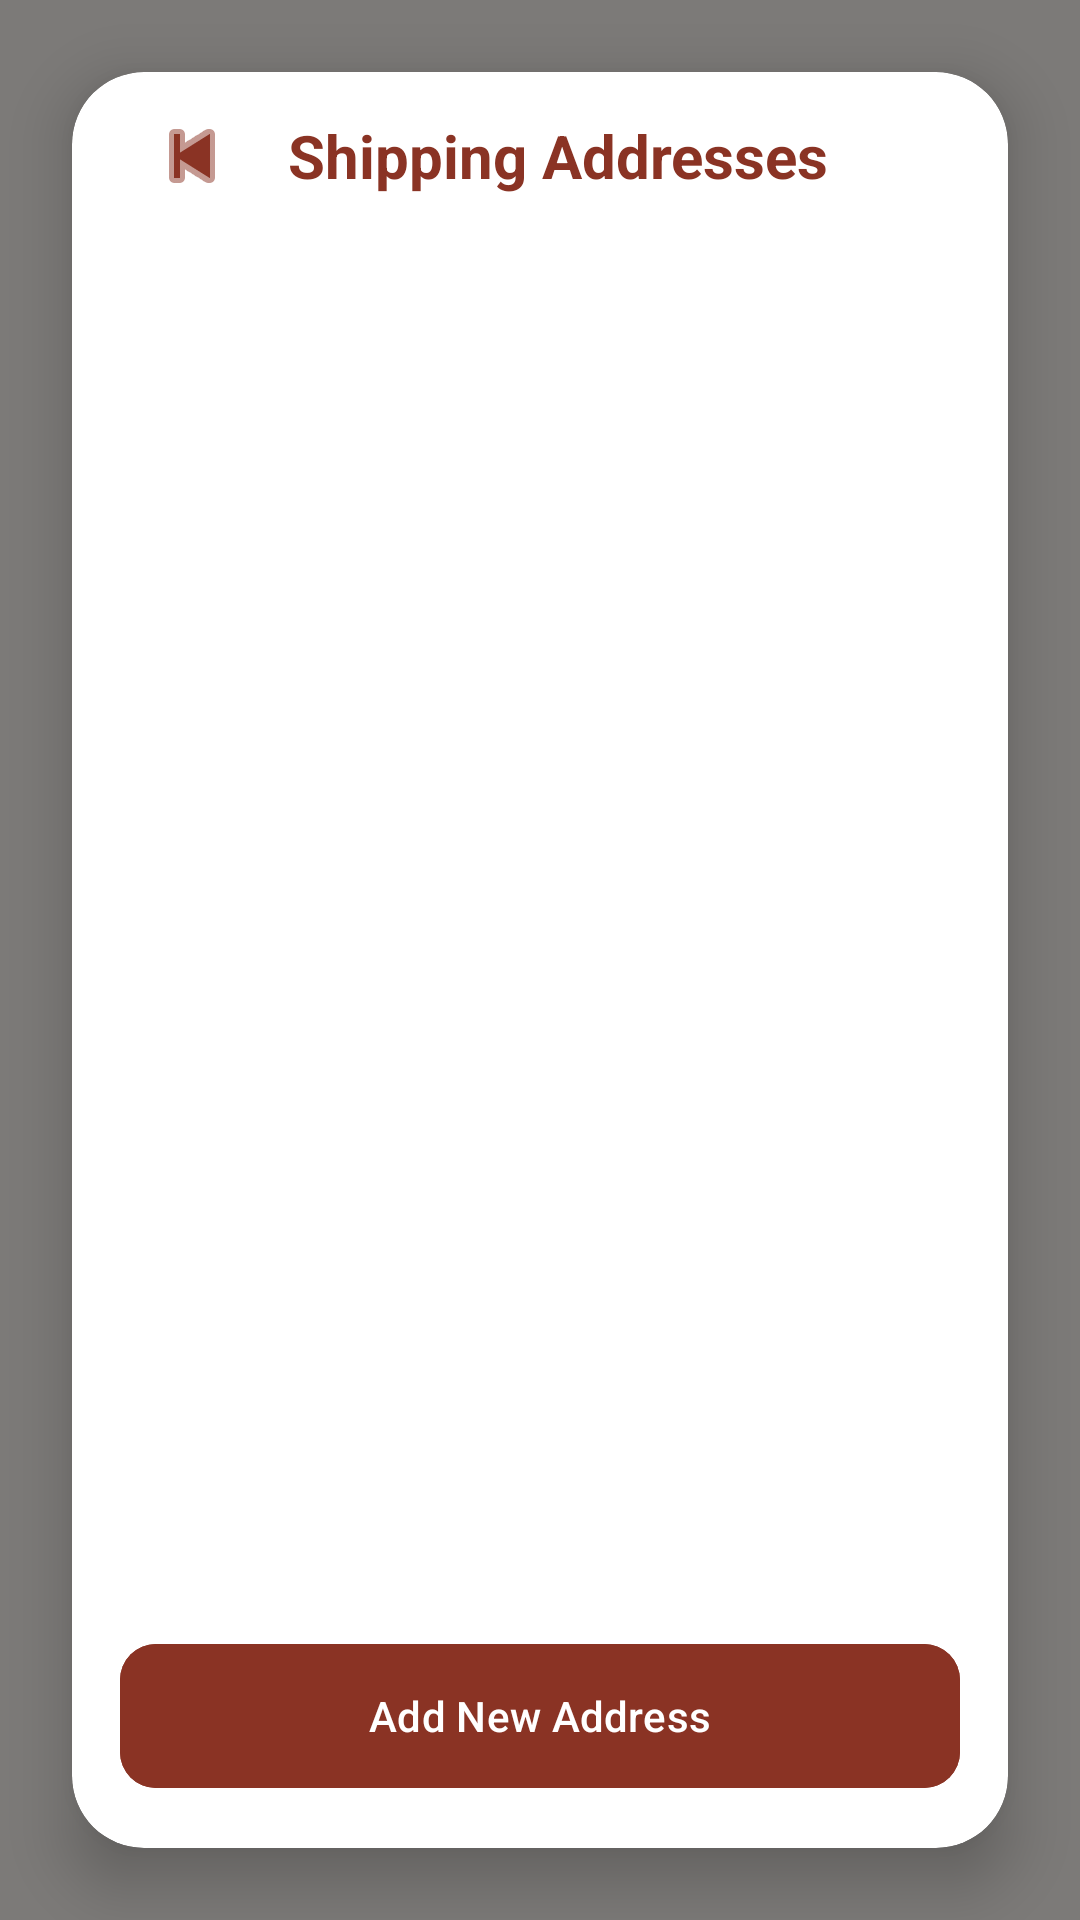

Where to tap for icons on this 1080 x 1920 app screen, as (x,y):
Back: (192,156)
